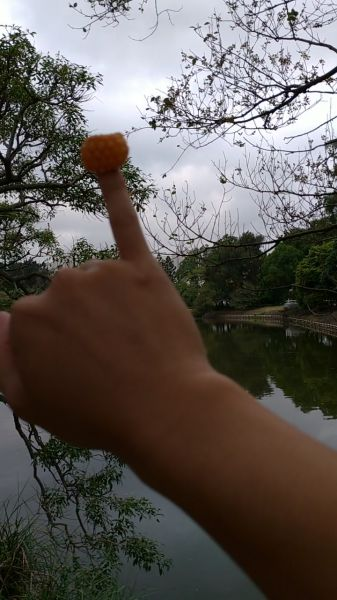eggs: (82, 132, 128, 172)
